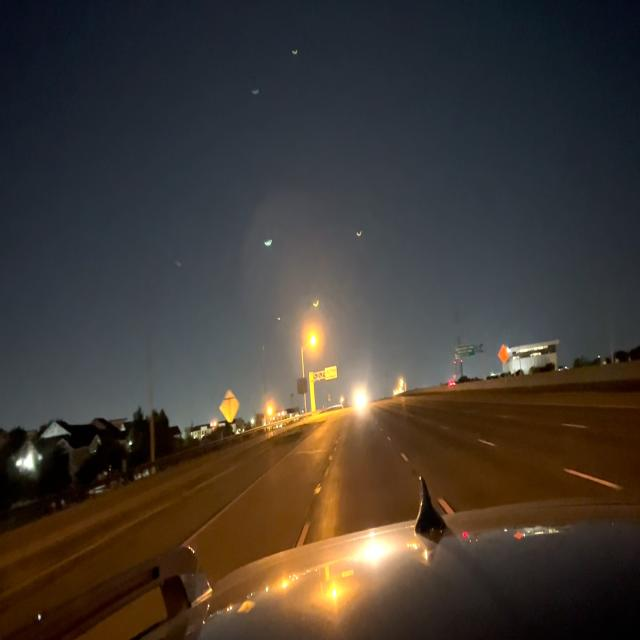back-of-sign: (220, 387, 240, 426)
